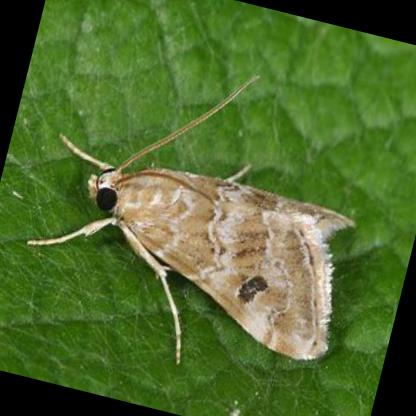Hellula undalis: (19, 65, 375, 379)
